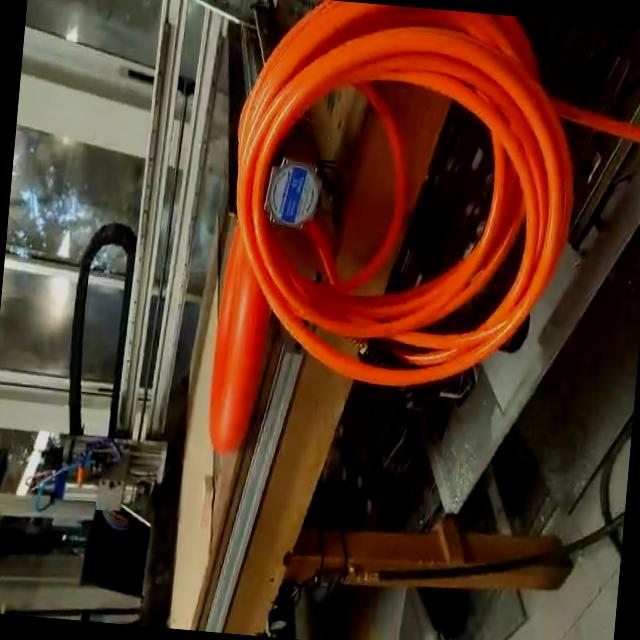note: (205, 222, 279, 457)
